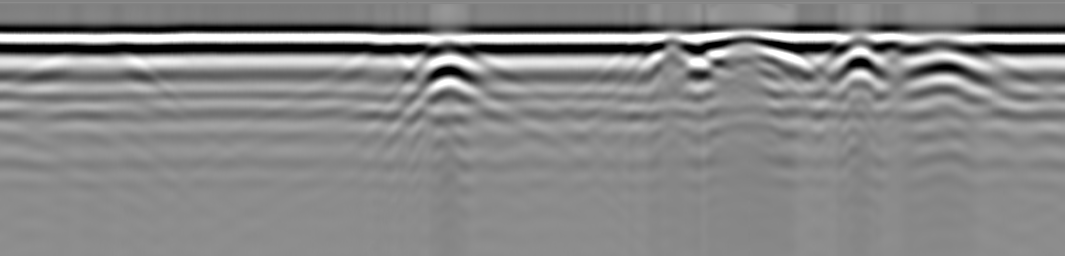pipe: (906, 37, 986, 79), (421, 38, 483, 83), (838, 35, 886, 80), (646, 32, 703, 66)
